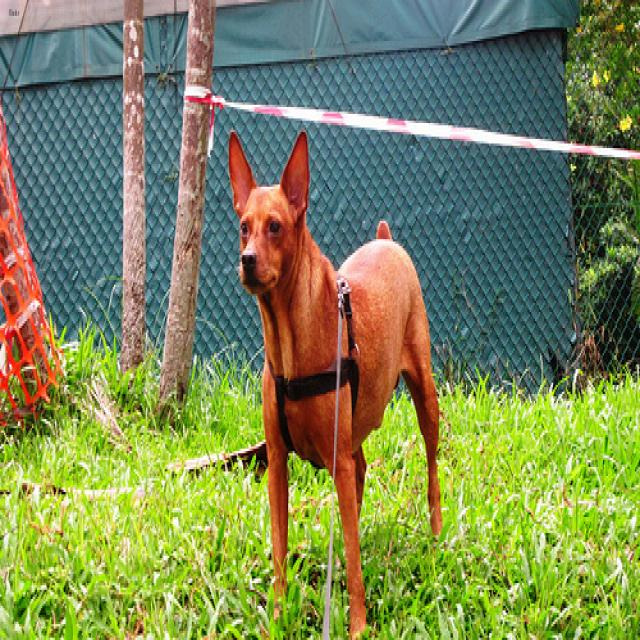dog-miniature_pinscher: (224, 118, 449, 635)
